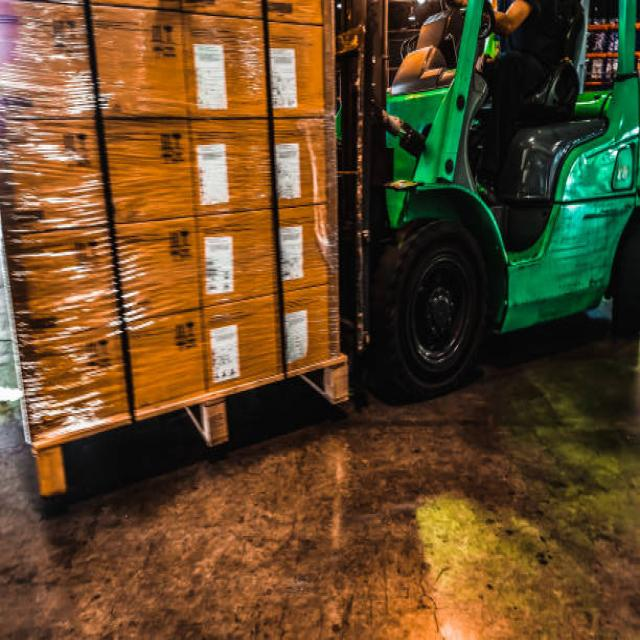Wooden-Pallets: (31, 350, 350, 502)
